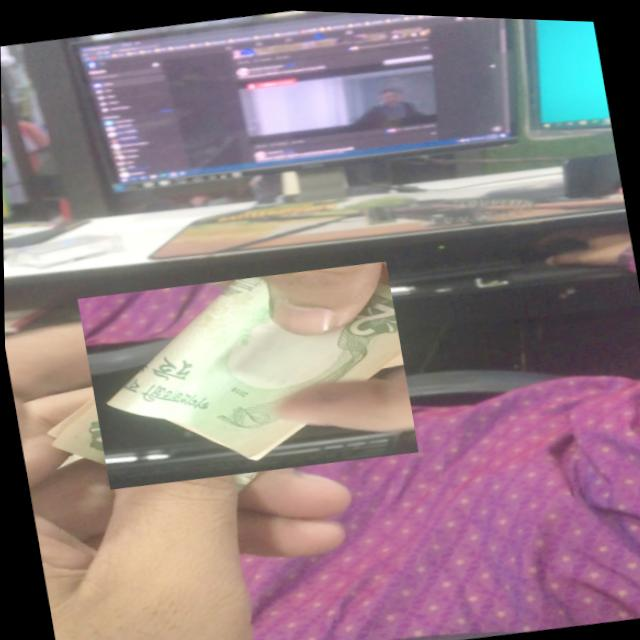Taka: (76, 249, 418, 498)
